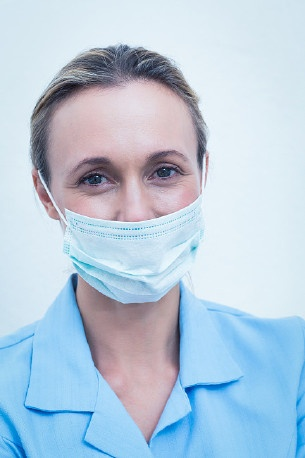Mask: (50, 145, 205, 299)
